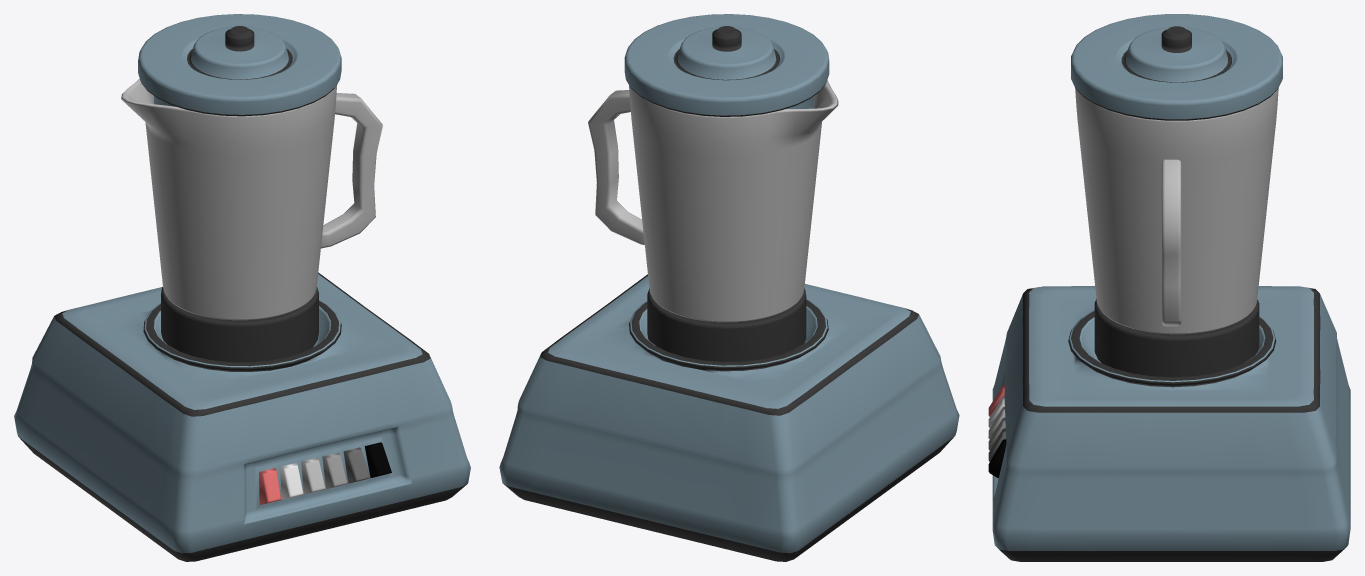
Rendered from Blender.fbx.
The picture shows the model from 3 angles, left to right: view 1: azimuth 30°, elevation 25°; view 2: azimuth 150°, elevation 25°; view 3: azimuth 270°, elevation 25°; orthographic projection. The views are drawn at different scales.
Visible parts, largest first — view 1: Base_Blender, Blender, Top_Blender1, BTN_1, BTN_3, BTN_5, BTN_ON, BTN_7, BTN_9; view 2: Base_Blender, Blender, Top_Blender1; view 3: Base_Blender, Blender, Top_Blender1.
Boxes of the visible parts, x1=… form: Base_Blender: x1=14, y1=272, x2=470, y2=561; Blender: x1=121, y1=78, x2=382, y2=362; Top_Blender1: x1=138, y1=14, x2=341, y2=116; BTN_1: x1=280, y1=463, x2=303, y2=499; BTN_3: x1=301, y1=457, x2=325, y2=494; BTN_5: x1=322, y1=452, x2=347, y2=488; BTN_ON: x1=259, y1=468, x2=281, y2=504; BTN_7: x1=343, y1=447, x2=369, y2=483; BTN_9: x1=365, y1=442, x2=391, y2=477; Base_Blender: x1=499, y1=274, x2=959, y2=561; Blender: x1=588, y1=80, x2=838, y2=361; Top_Blender1: x1=624, y1=14, x2=829, y2=116; Base_Blender: x1=992, y1=286, x2=1350, y2=561; Blender: x1=1075, y1=88, x2=1278, y2=377; Top_Blender1: x1=1071, y1=14, x2=1282, y2=120.
Size of the model in its own units: 29.43 by 42.22 by 29.77.
